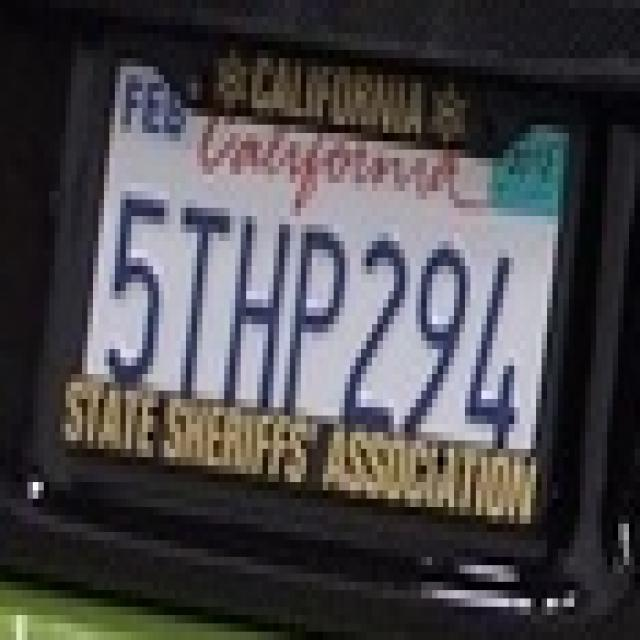licenseplate: (22, 6, 616, 584)
